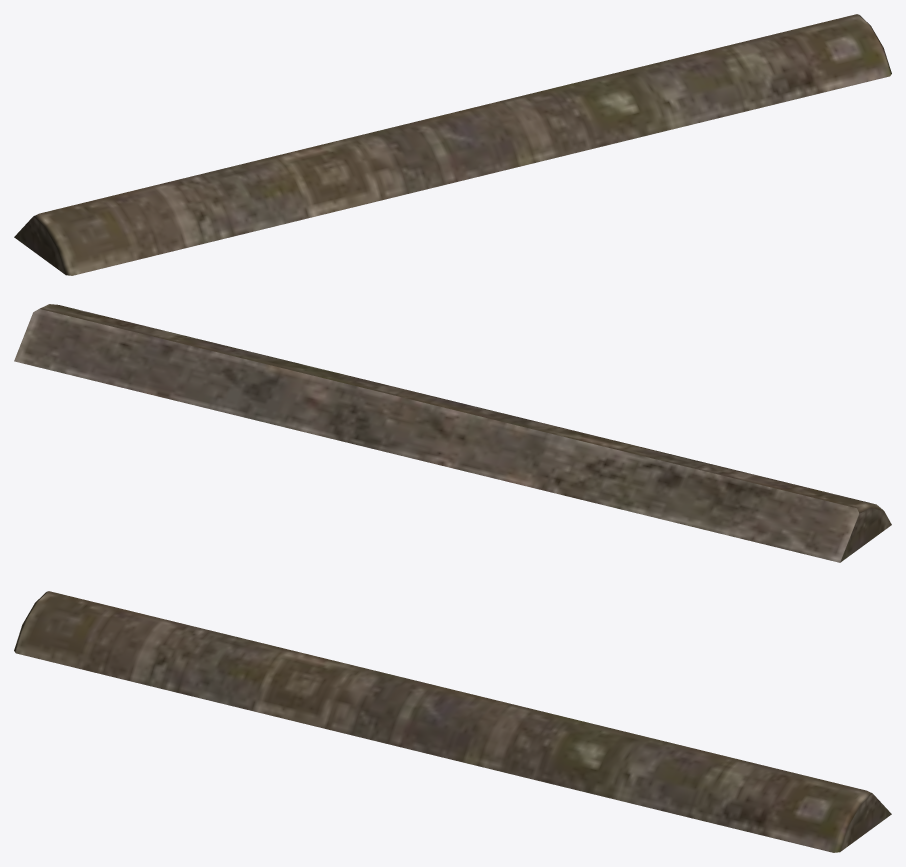
File: roof.jungle.bottom.line.glb
The picture shows the model from 3 angles, top to bottom: view 1: azimuth 30°, elevation 25°; view 2: azimuth 150°, elevation 25°; view 3: azimuth 330°, elevation 25°; orthographic projection.
Visible parts, largest first — view 1: roof.jungle.bottom.line; view 2: roof.jungle.bottom.line; view 3: roof.jungle.bottom.line.
Part boxes in pixels (x1,y1,x2,y2): roof.jungle.bottom.line: (14,14,891,275); roof.jungle.bottom.line: (14,304,891,562); roof.jungle.bottom.line: (14,591,891,852).
Bounding box in the file's own units: 3 × 0.1322 × 0.341.
Materials: 1 (1 with a texture image).
